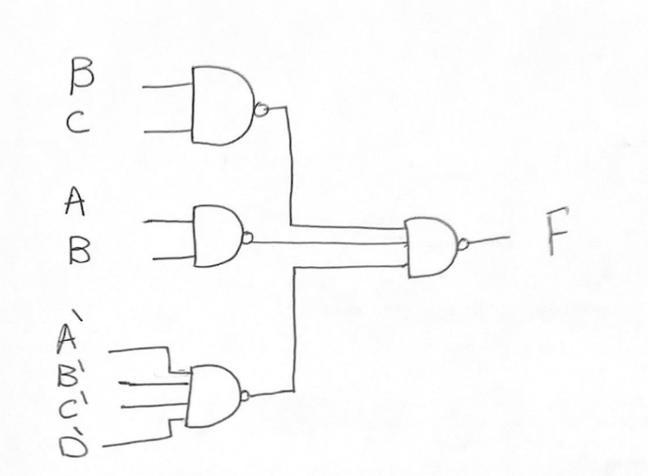NAND: (182, 55, 272, 158), (180, 350, 259, 437), (395, 208, 478, 288), (181, 194, 254, 276)
